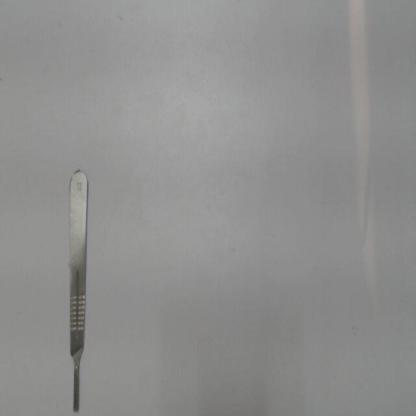No.4 BP Handle: (64, 163, 93, 416)
